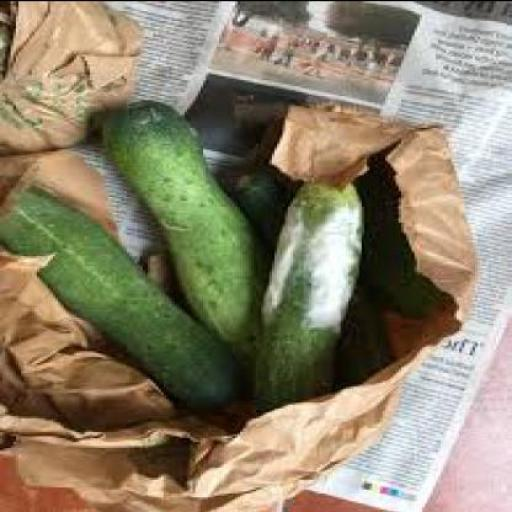biodegradable: (0, 180, 235, 407), (103, 97, 261, 372), (245, 152, 354, 413), (346, 148, 436, 314), (330, 217, 394, 382), (228, 162, 277, 248)
paper: (95, 1, 511, 100), (0, 409, 385, 510), (0, 246, 175, 422), (0, 1, 140, 146), (385, 118, 473, 313), (299, 409, 467, 510), (440, 80, 510, 318), (264, 99, 402, 174), (0, 148, 113, 234), (200, 93, 280, 174), (258, 384, 396, 421), (388, 364, 478, 413), (388, 313, 456, 369), (66, 148, 121, 208), (409, 340, 493, 368), (111, 192, 150, 249), (369, 97, 443, 126), (457, 318, 504, 340)
